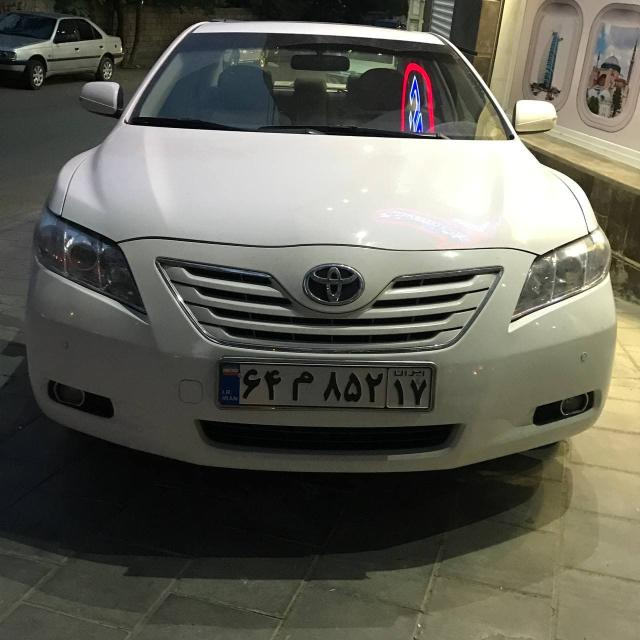Plates: (218, 361, 435, 411)
